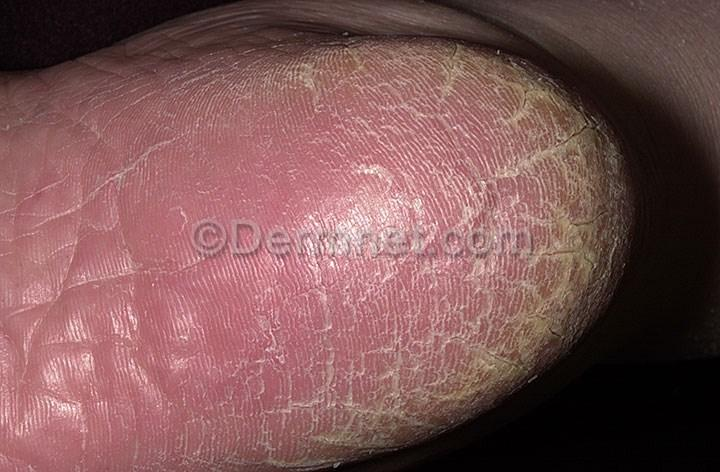Eczema: (289, 24, 580, 119), (529, 139, 629, 361), (295, 366, 456, 463)
